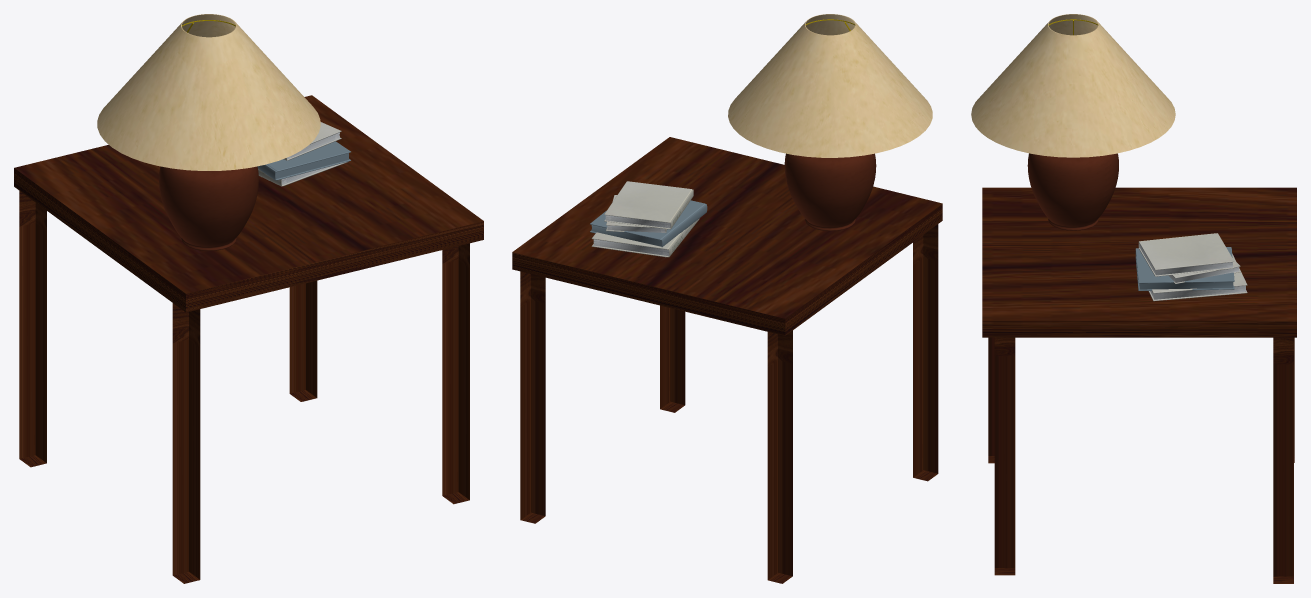
Rendered from table.glb.
The picture shows the model from 3 angles, left to right: view 1: azimuth 30°, elevation 25°; view 2: azimuth 150°, elevation 25°; view 3: azimuth 270°, elevation 25°; orthographic projection. The views are drawn at different scales.
Visible parts, largest first — view 1: Cube, lmp005, Cube.004, Cube.003, Cube.001, Cube.002, Book.001, Book.003; view 2: Cube, lmp005, Cube.003, Cube.002, Cube.004, Book.003, Cube.001, Book.001, Book; view 3: Cube, lmp005, Cube.001, Cube.002, Book.003, Book.001, Book, Cube.004, Book.002.
Part boxes in pixels (x1,y1,x2,y2): Cube: [14, 95, 483, 312]; lmp005: [97, 14, 320, 250]; Cube.004: [172, 303, 200, 583]; Cube.003: [19, 191, 46, 467]; Cube.001: [442, 243, 469, 504]; Cube.002: [289, 280, 317, 401]; Book.001: [257, 141, 350, 180]; Book.003: [283, 122, 341, 160]; Cube: [512, 137, 942, 335]; lmp005: [728, 14, 932, 230]; Cube.003: [767, 330, 792, 583]; Cube.002: [520, 271, 545, 523]; Cube.004: [913, 224, 938, 481]; Book.003: [604, 181, 693, 229]; Cube.001: [660, 305, 685, 412]; Book.001: [590, 200, 707, 247]; Book: [591, 218, 699, 257]; Cube: [982, 187, 1296, 337]; lmp005: [971, 14, 1175, 230]; Cube.001: [994, 337, 1015, 575]; Cube.002: [1273, 337, 1293, 583]; Book.003: [1138, 233, 1234, 276]; Book.001: [1135, 247, 1234, 290]; Book: [1148, 254, 1247, 301]; Cube.004: [988, 337, 994, 463]; Book.002: [1168, 259, 1240, 283].
Size of the model in its own units: 0.5682 by 0.8542 by 0.5443.
10 materials, 6 textured.
